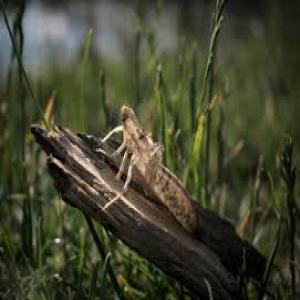locust: (102, 71, 214, 250)
